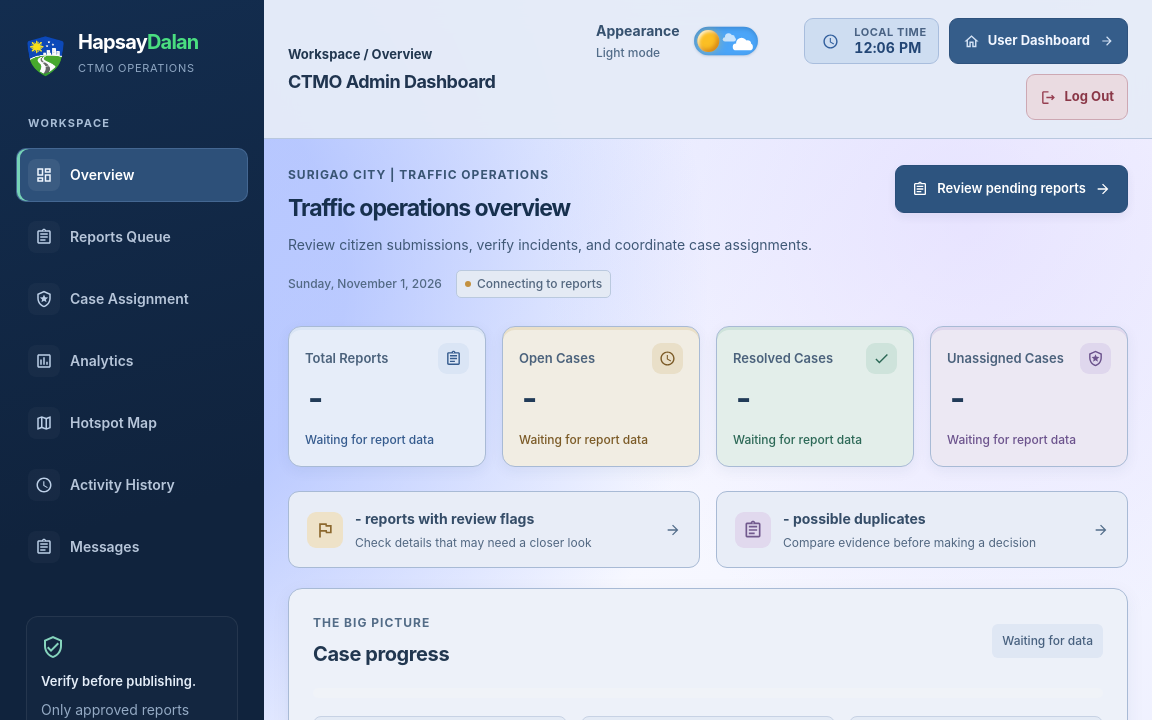
case deletion needs confirmation, removes the case, and refreshes the queue
Click the button "Reports Queue" at (132, 237), box [16,210,248,264]
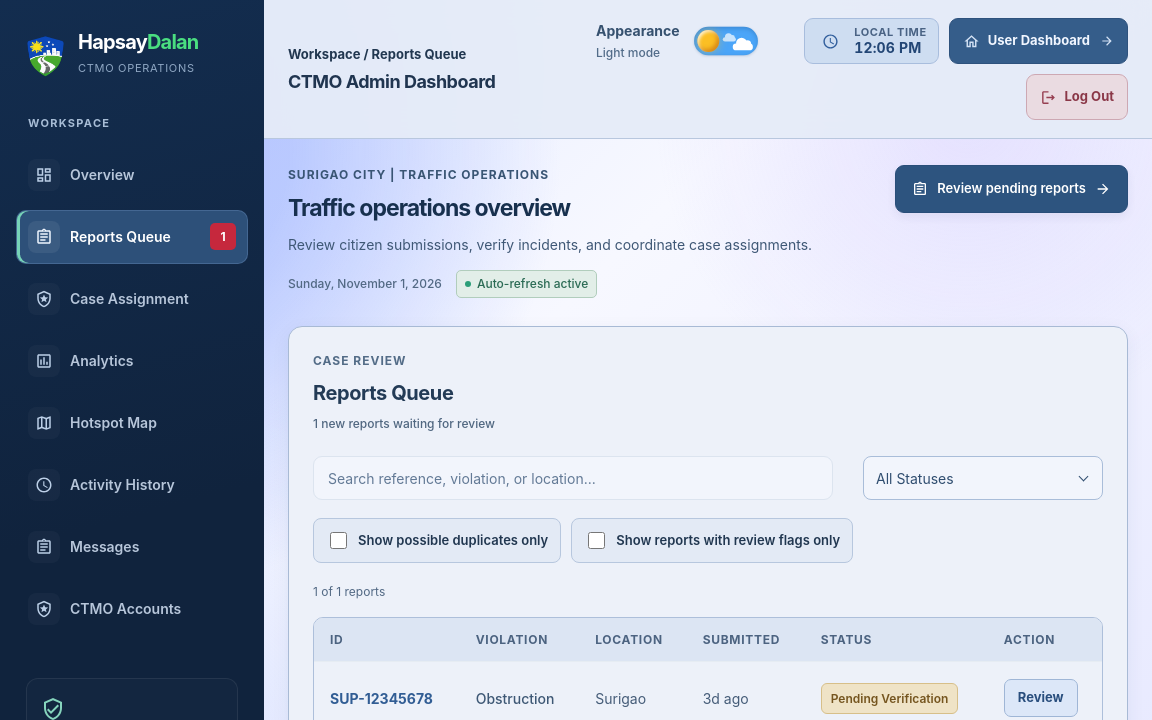
Click the button "Review" at (1041, 698), box [1004,679,1078,717]
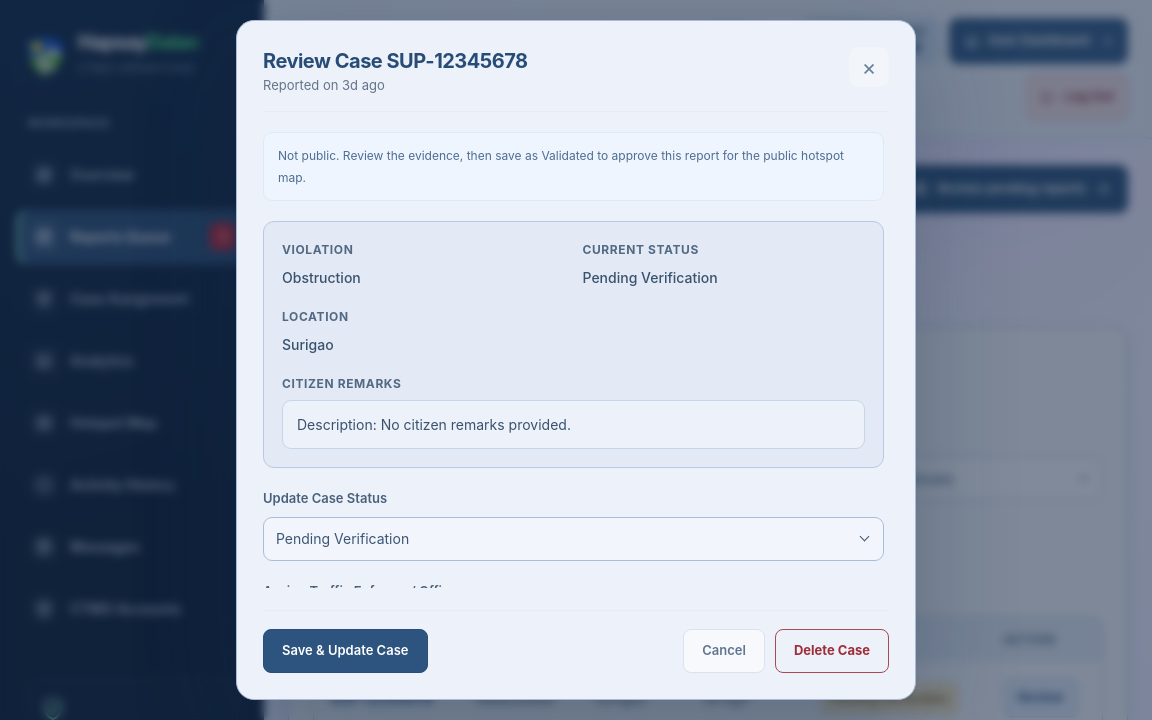
Click the button "Delete Case" at (832, 651), box [775,629,889,673]
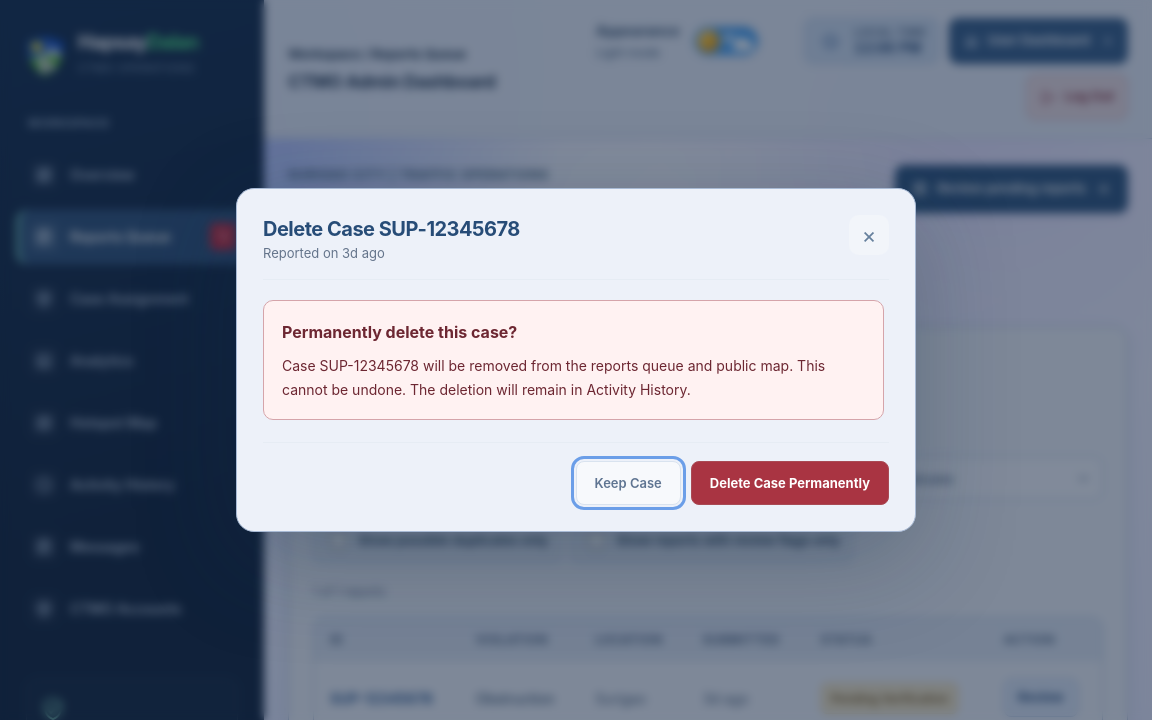
Click the button "Keep Case" at (628, 483), box [576,461,681,505]
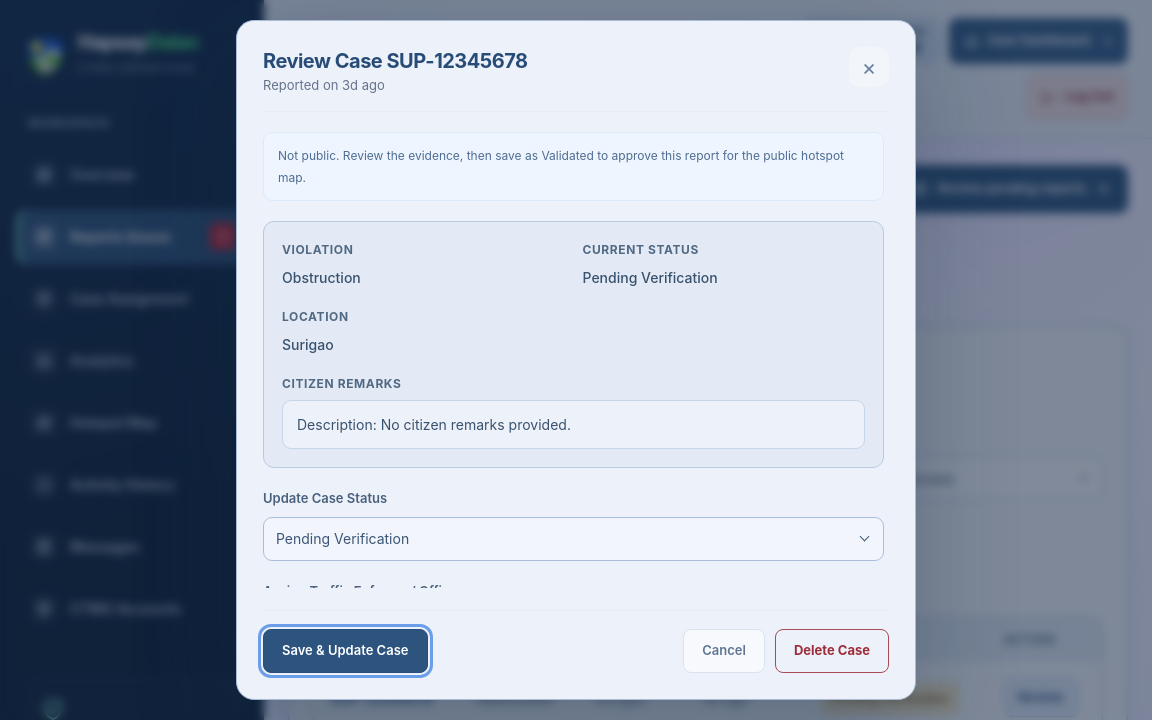
Click the button "Delete Case" at (832, 651), box [775,629,889,673]
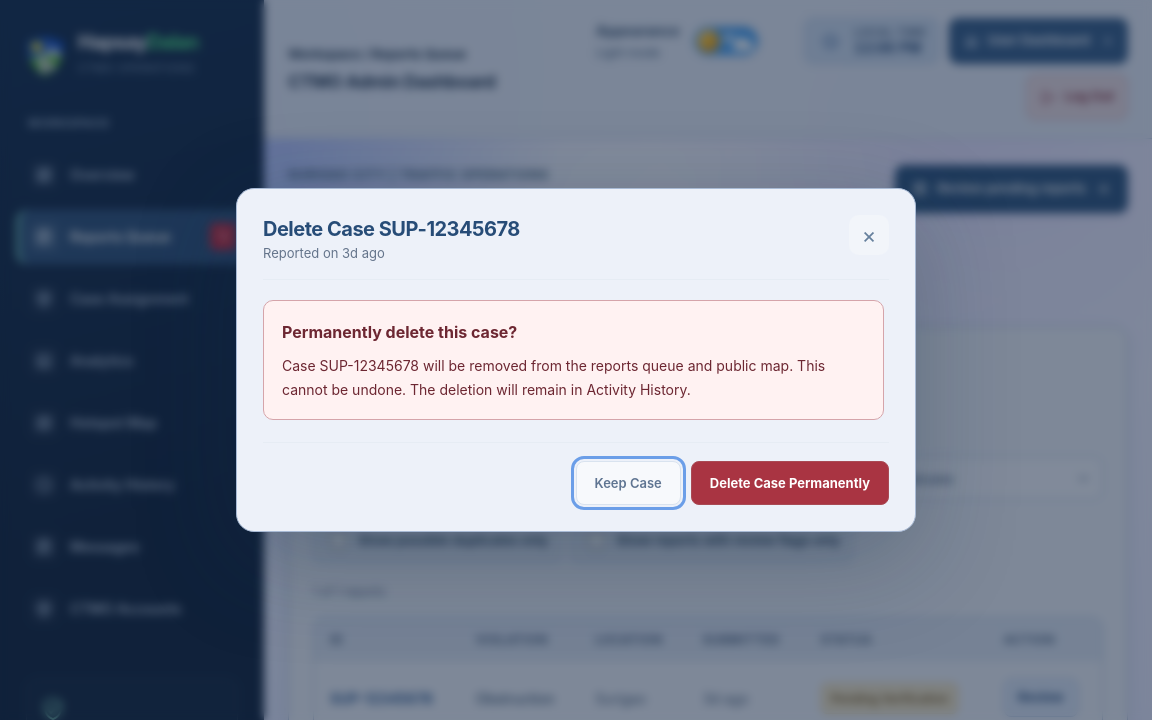
Click the button "Delete Case Permanently" at (790, 483), box [691,461,889,505]
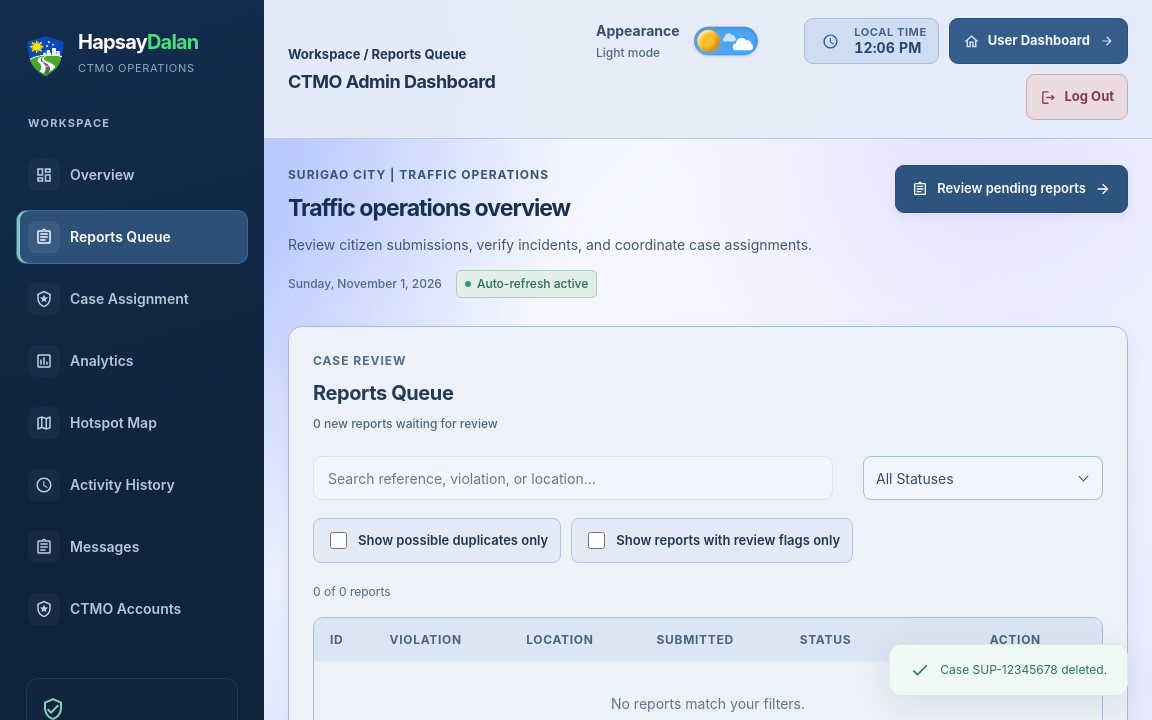
expect the dialog is gone: met
